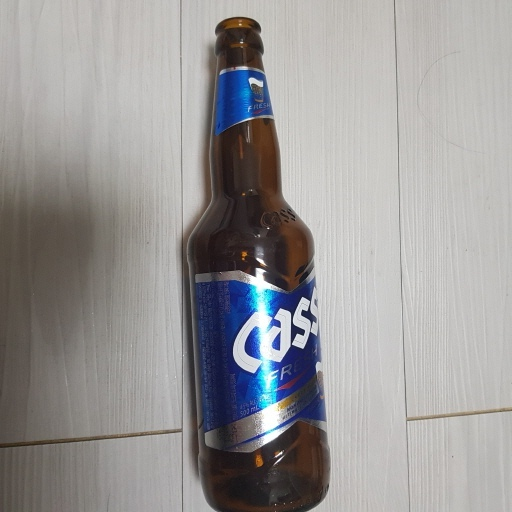Glass_1: (179, 12, 330, 512)
